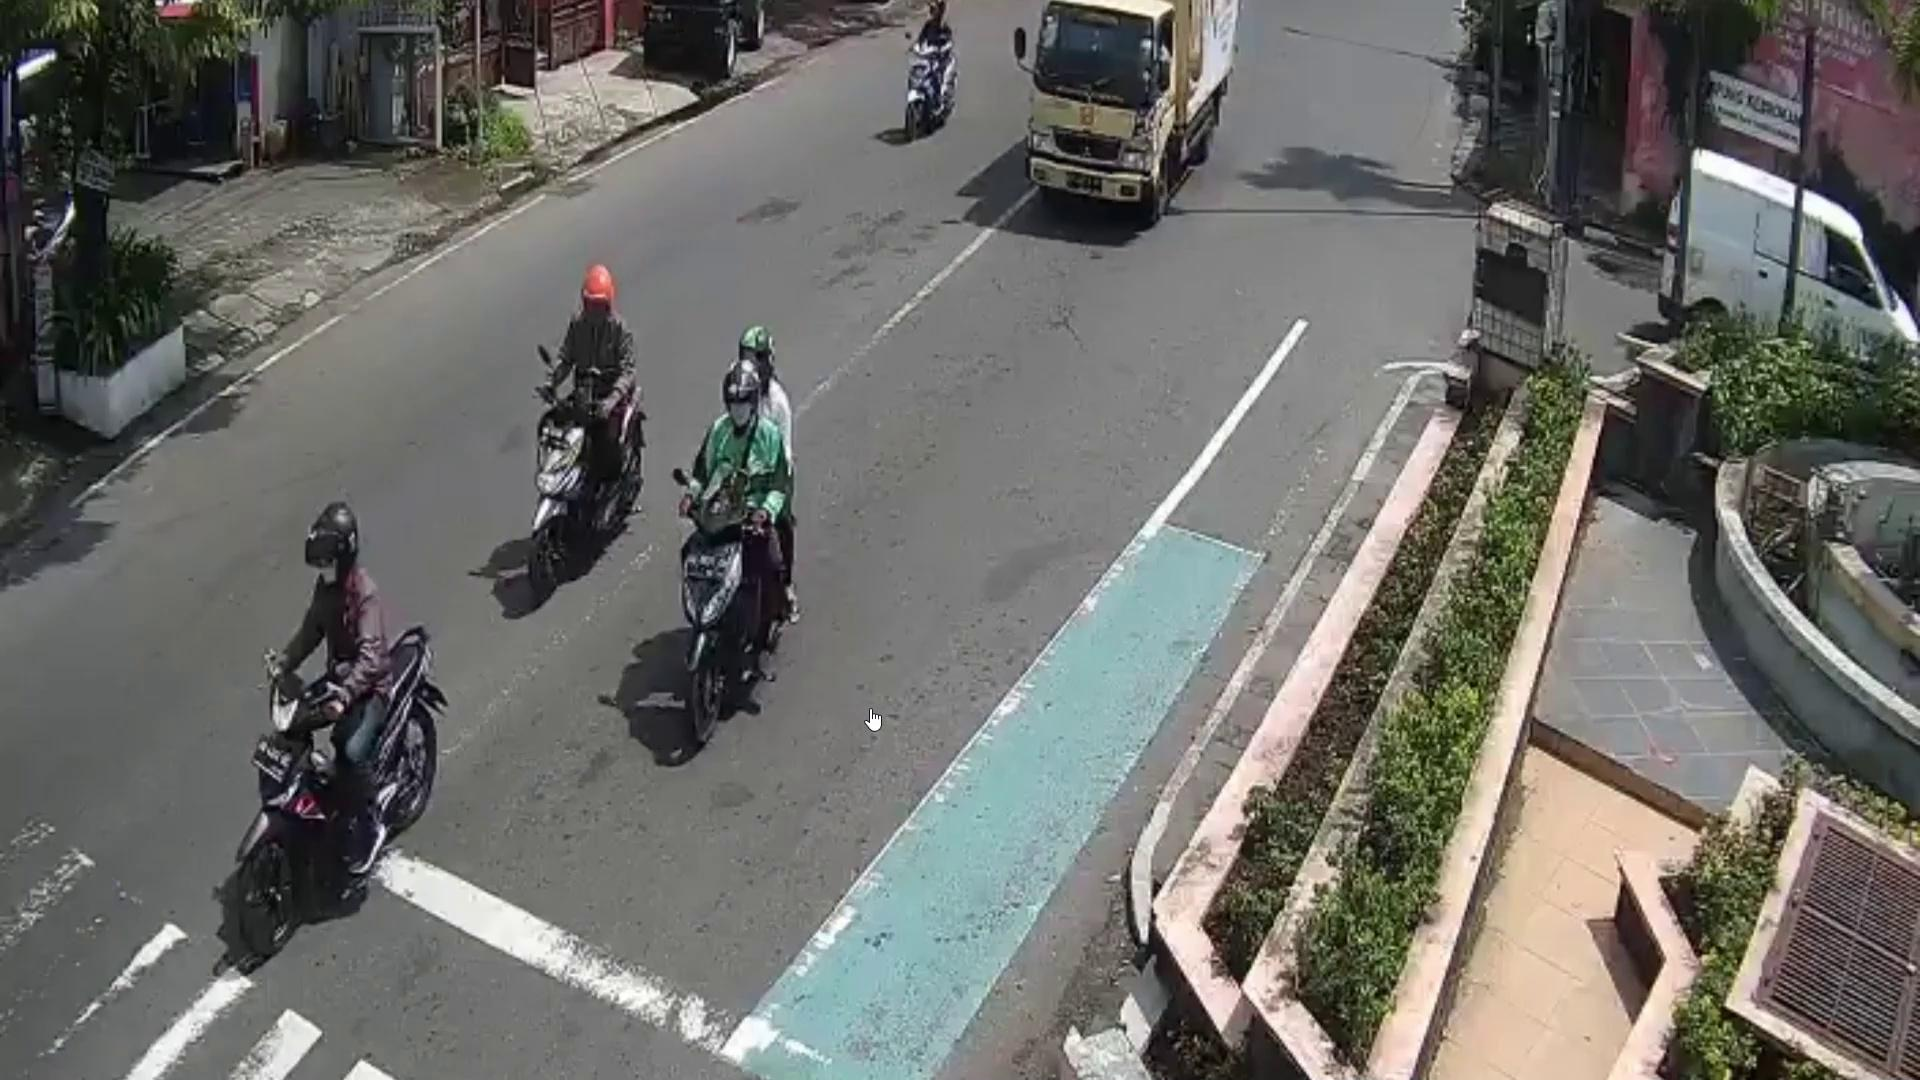car: (1652, 146, 1920, 380)
motorbike: (233, 624, 451, 956), (684, 497, 795, 748), (533, 380, 649, 604), (909, 38, 957, 137)
truck: (1031, 4, 1241, 222)
